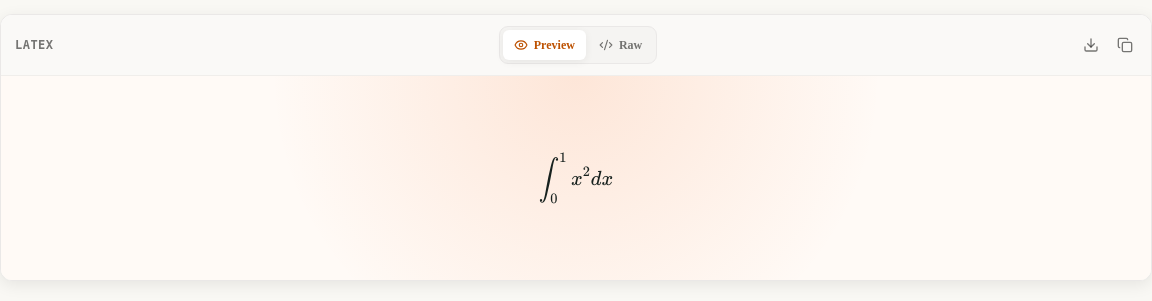
it: RenderableCodeBlock › renders LaTeX preview by default and exposes the raw source
The image size is (1152, 301).
Check: the element with class "katex" is shown, box [539,153,613,203]
Click the tab "Raw": x=621, y=45 [588,30,653,60]
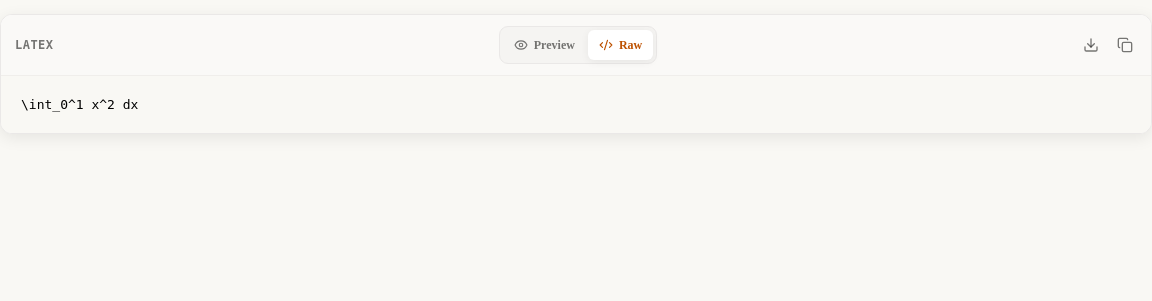
Check: the panel reads "\\int_0^1 x^2 dx", box [1,76,1151,133]
